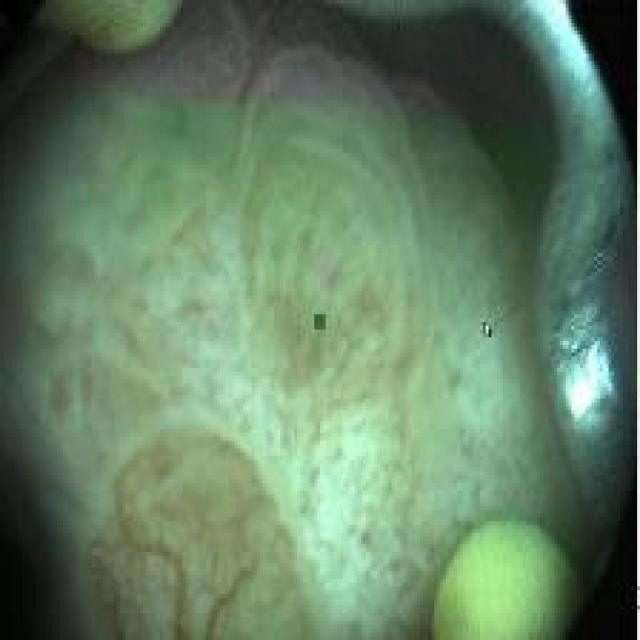color misalignment: (306, 302, 331, 339)
contrast: (353, 17, 549, 124), (1, 429, 59, 638)
instrument: (504, 12, 630, 554), (431, 517, 584, 635), (41, 5, 181, 55), (334, 3, 481, 30)
specularity: (564, 345, 616, 417)
